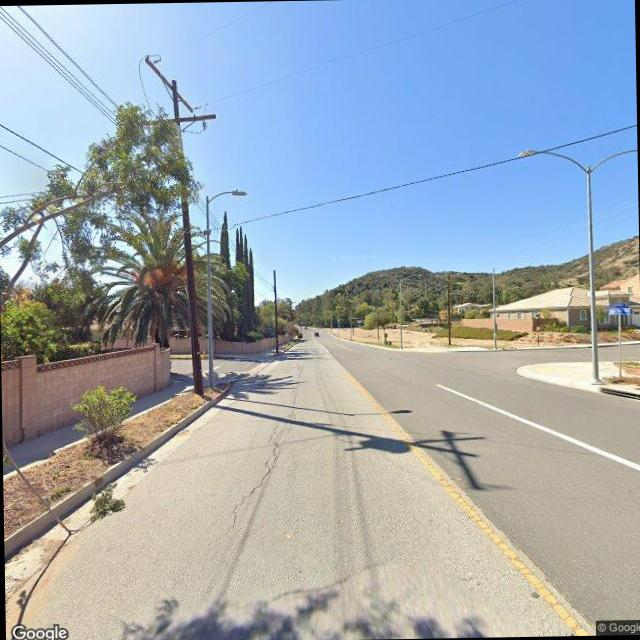pothole: (218, 417, 288, 538)
